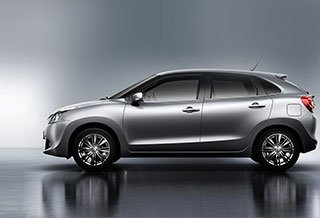car: (38, 58, 313, 169)
